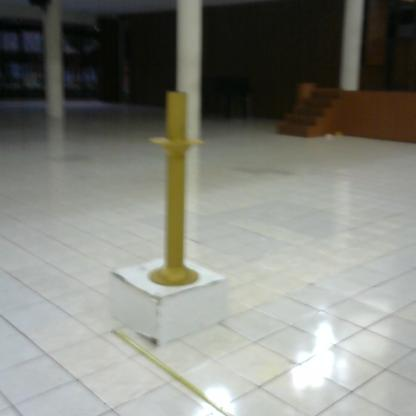pole: (150, 81, 206, 295)
